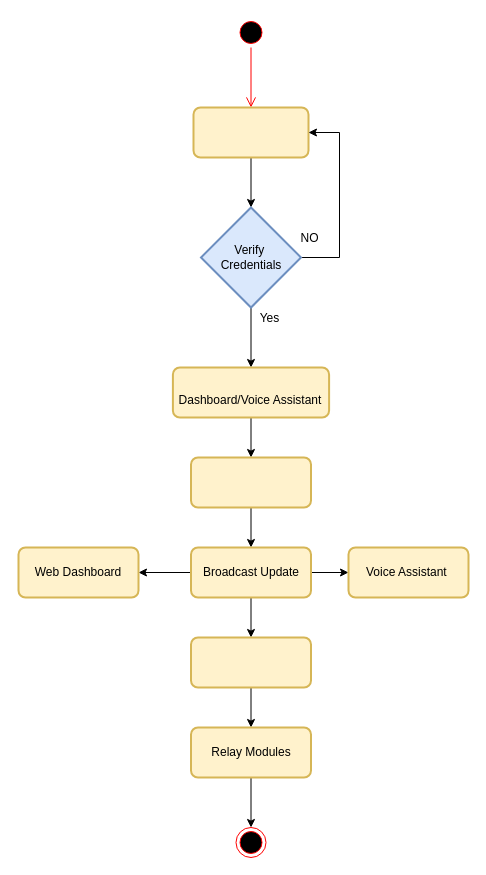
This 486x875 diagram has some shape labels left out. The shapes that lost their labels are listed below. From the top down, each one's box as (x1, y1, x2, y2) in pixels, then its label:
(192, 106, 309, 158): Login
(190, 456, 312, 508): Process Command
(190, 636, 312, 688): ESP32 Controller
